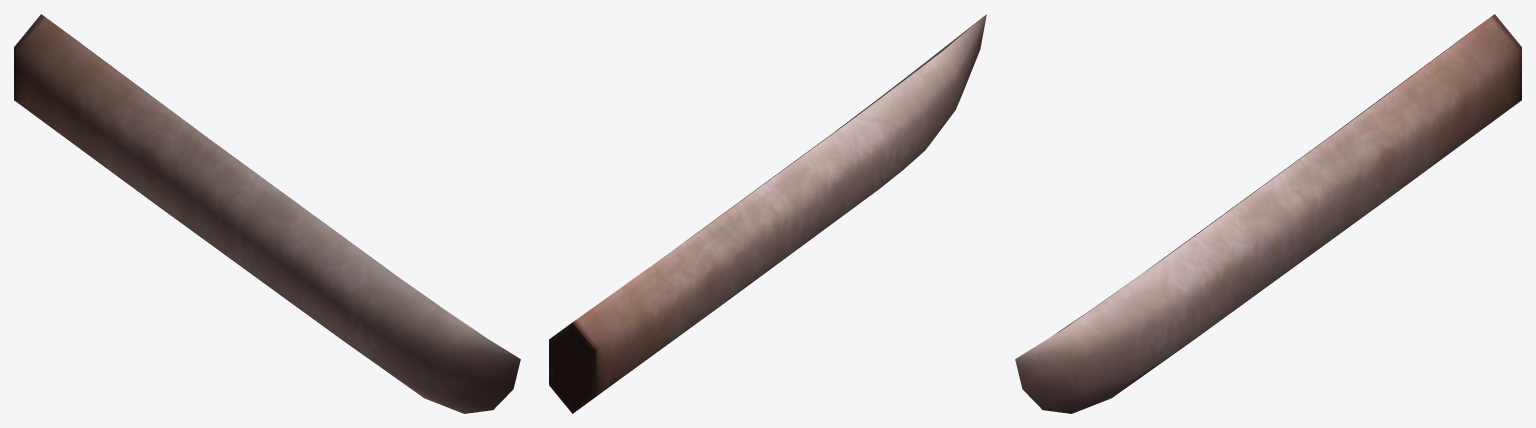
3 renders of one model, left to right at view 1: azimuth 30°, elevation 25°; view 2: azimuth 150°, elevation 25°; view 3: azimuth 330°, elevation 25°, orthographic. The views are drawn at different scales.
Visible parts, largest first — view 1: mSaya; view 2: mSaya; view 3: mSaya.
Part boxes in pixels (x1,y1,x2,y2): mSaya: [14, 14, 520, 413]; mSaya: [549, 14, 986, 413]; mSaya: [1015, 14, 1521, 413].
Bounding box in the file's own units: 0.0435 × 0.0858 × 0.6655.
1 material, 1 textured.
